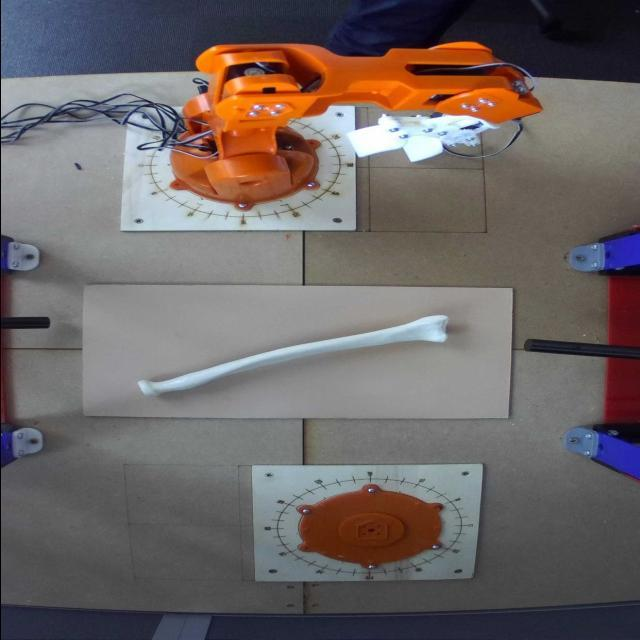bone: (134, 309, 454, 401)
